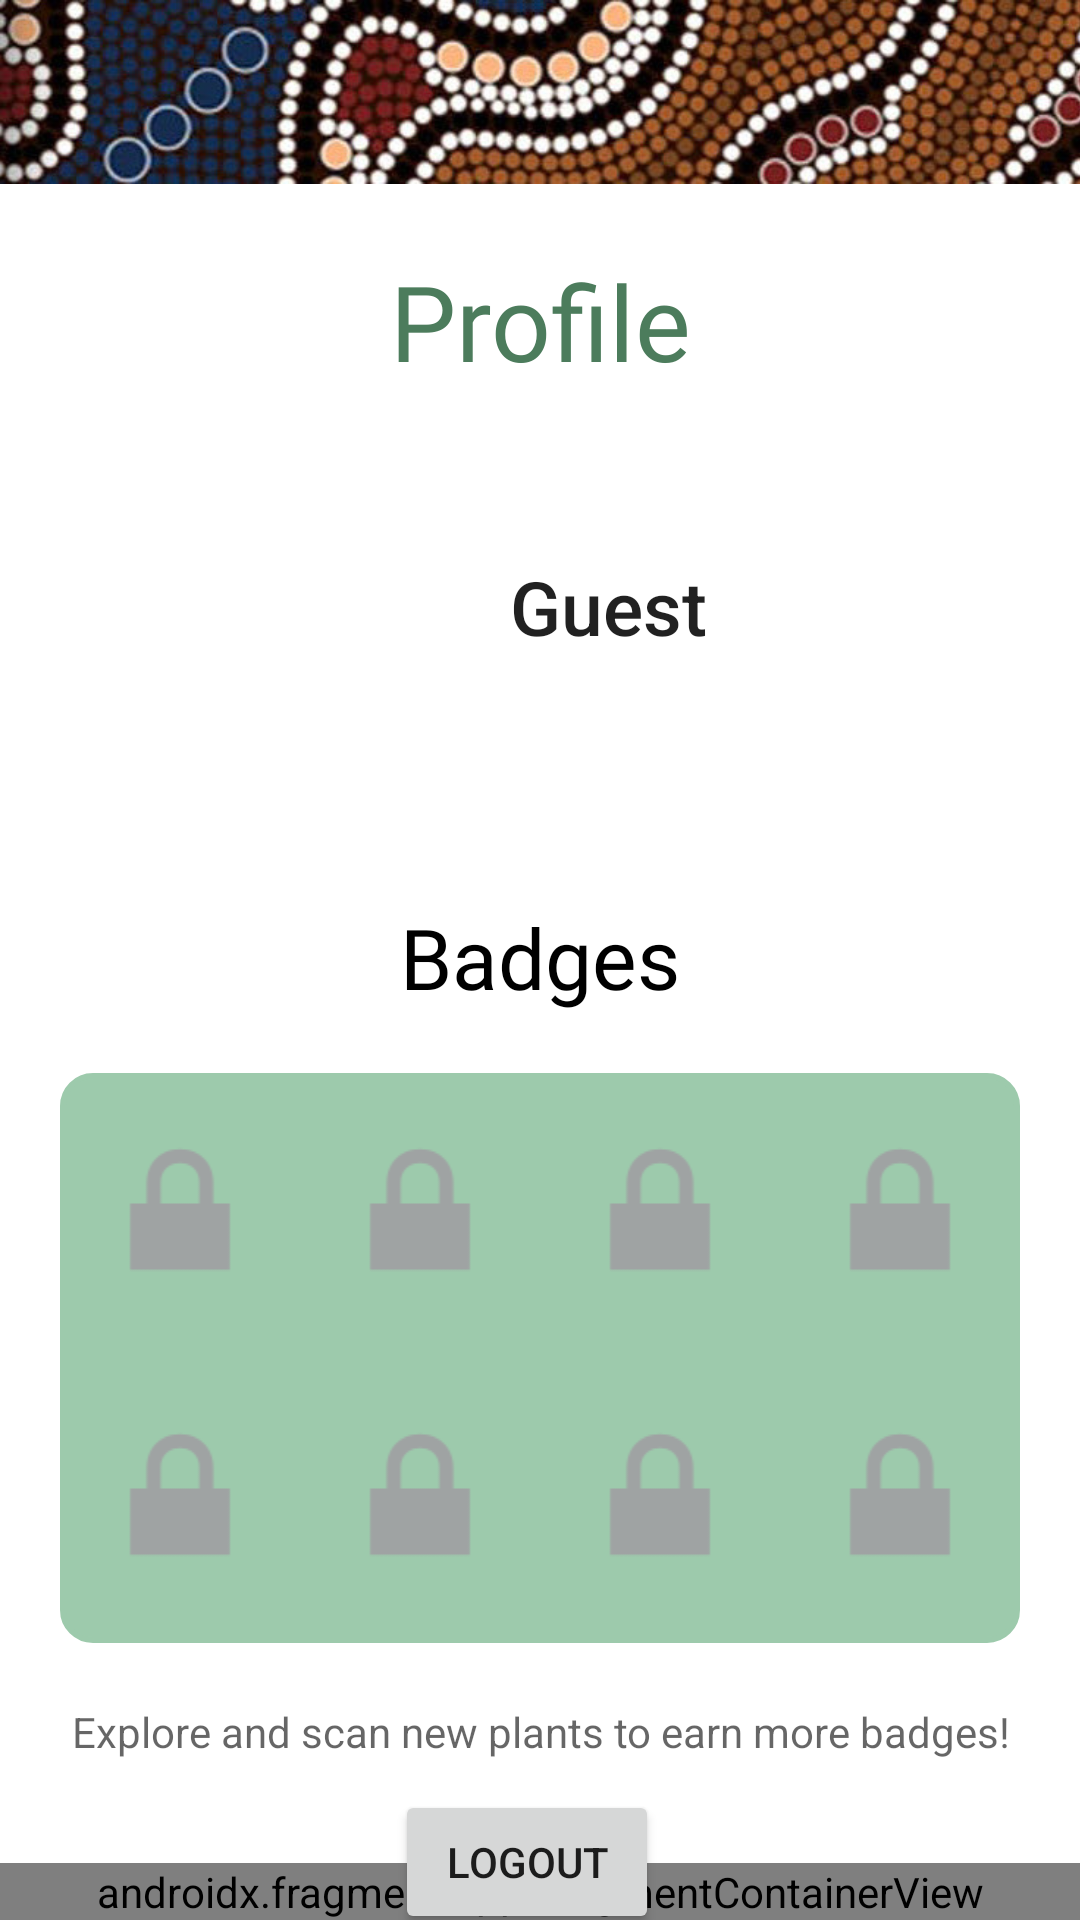

Locate icon controls on the screen. Image size 1080px x 1920px, boxes as bbox(x1, y1, x2, y2).
lock: bbox(130, 1150, 230, 1269), bbox(370, 1150, 470, 1269), bbox(610, 1150, 710, 1269), bbox(850, 1150, 950, 1269), bbox(130, 1435, 230, 1554), bbox(370, 1435, 470, 1554), bbox(610, 1435, 710, 1554), bbox(850, 1435, 950, 1554)
